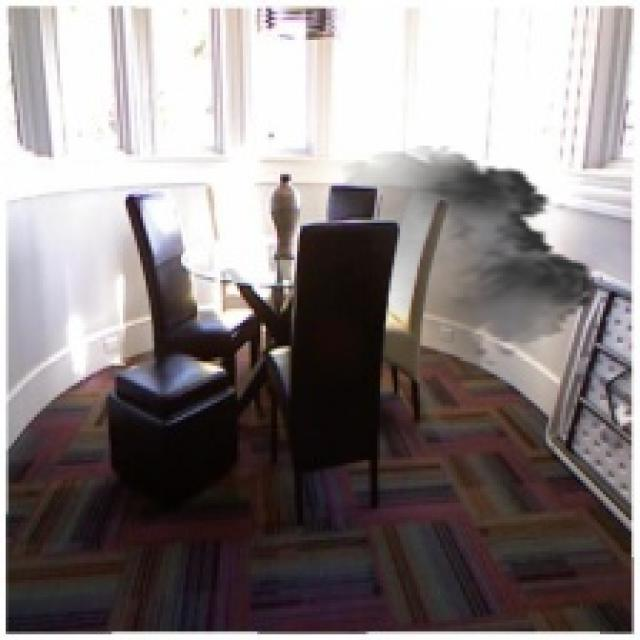smoke: (323, 146, 606, 391)
